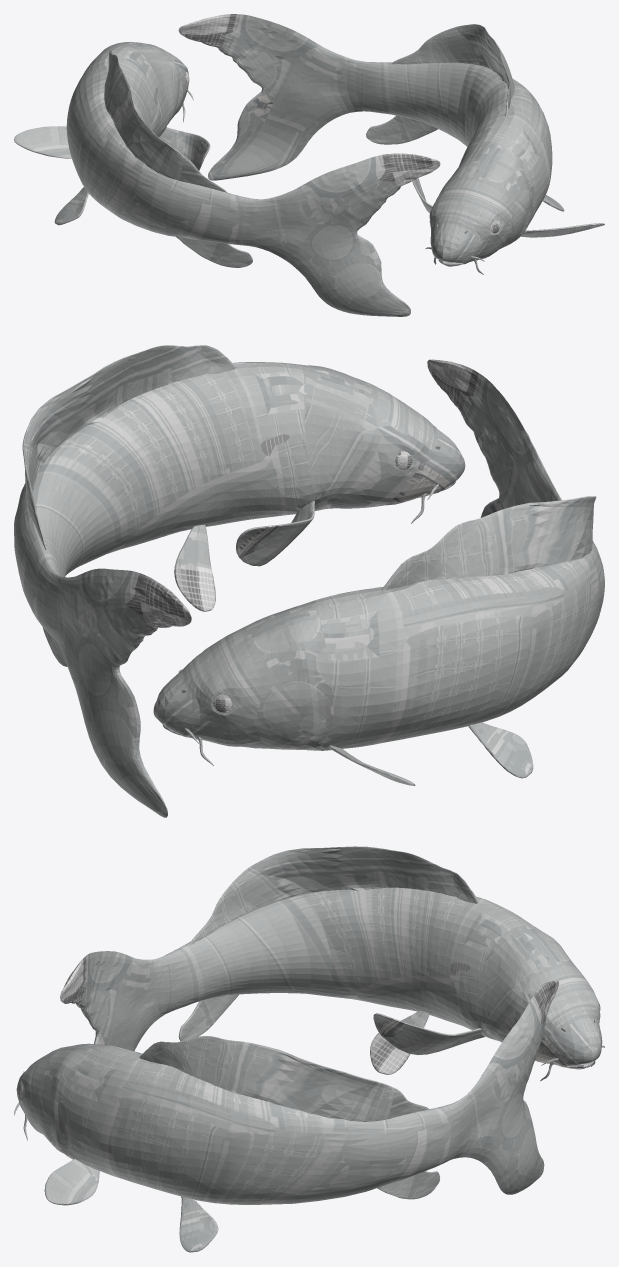
File: bbb.gltf
The picture shows the model from 3 angles, top to bottom: view 1: azimuth 30°, elevation 25°; view 2: azimuth 150°, elevation 25°; view 3: azimuth 270°, elevation 25°; orthographic projection. The views are drawn at different scales.
Size of the model in its own units: 0.9154 by 0.4337 by 0.9844.
